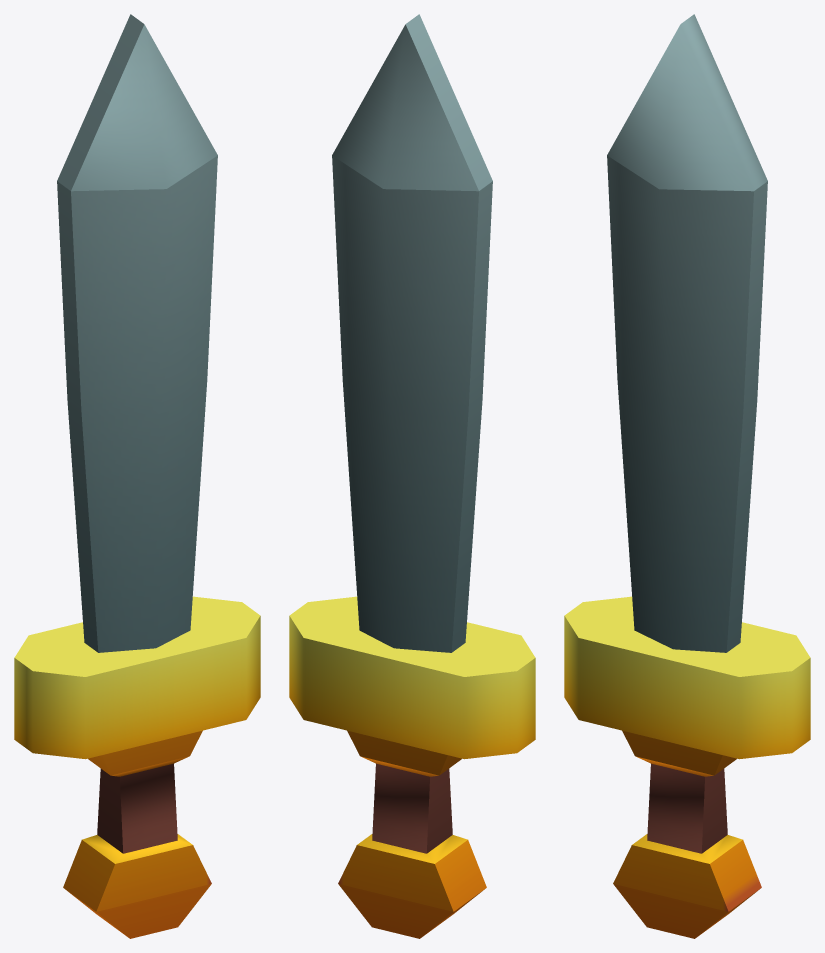
The model's file is Sword.fbx.
3 renders of one model, left to right at view 1: azimuth 30°, elevation 25°; view 2: azimuth 150°, elevation 25°; view 3: azimuth 330°, elevation 25°, orthographic.
Visible parts, largest first — view 1: Weapon_Sword; view 2: Weapon_Sword; view 3: Weapon_Sword.
Part boxes in pixels (x1,y1,x2,y2): Weapon_Sword: (14, 14, 260, 938); Weapon_Sword: (289, 14, 535, 938); Weapon_Sword: (564, 14, 810, 938).
Bounding box in the file's own units: 550 × 2082 × 240.
